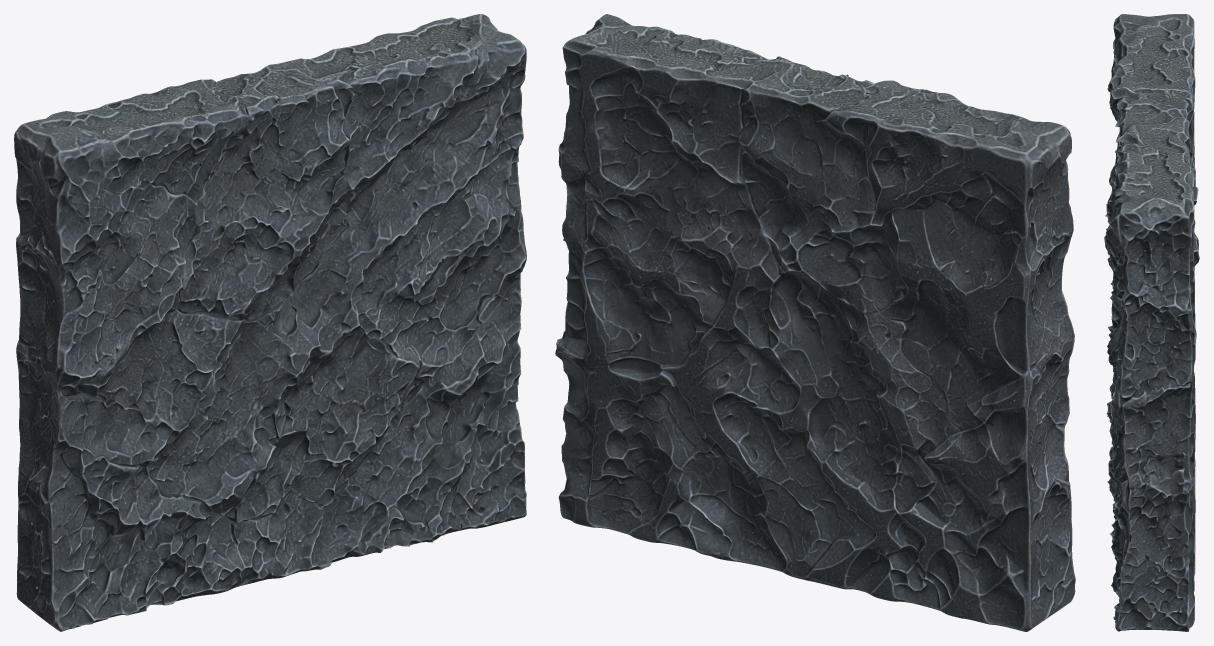
The model's file is Ice_Wall.fbx.
The picture shows the model from 3 angles, left to right: view 1: azimuth 30°, elevation 25°; view 2: azimuth 150°, elevation 25°; view 3: azimuth 270°, elevation 25°; orthographic projection. The views are drawn at different scales.
Parts seen in each view (by area): view 1: model; view 2: model; view 3: model.
Boxes of the visible parts, left/top/right/bottom form: model: left=14, top=14, right=526, bottom=631; model: left=555, top=14, right=1075, bottom=631; model: left=1104, top=14, right=1199, bottom=631.
Size of the model in its own units: 190 by 181 by 36.93.
Materials: 1 (1 with a texture image).
